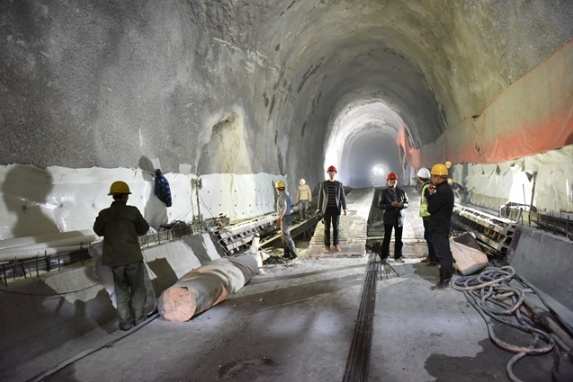red: (384, 171, 398, 188), (326, 165, 337, 179)
white: (416, 167, 430, 184), (298, 178, 305, 186)
yellow: (110, 181, 130, 203), (430, 161, 447, 184), (274, 179, 286, 193)
